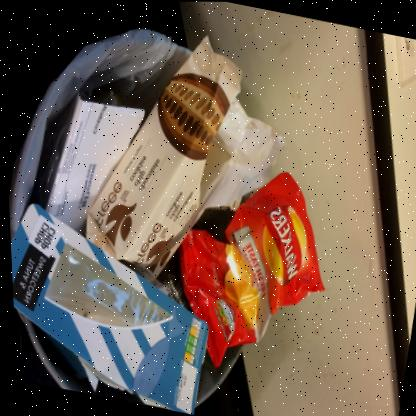Paper: (8, 204, 205, 414), (42, 93, 142, 228), (143, 131, 229, 268)
Plastic: (82, 34, 285, 282), (7, 27, 191, 234), (175, 171, 321, 368), (41, 243, 166, 326)
